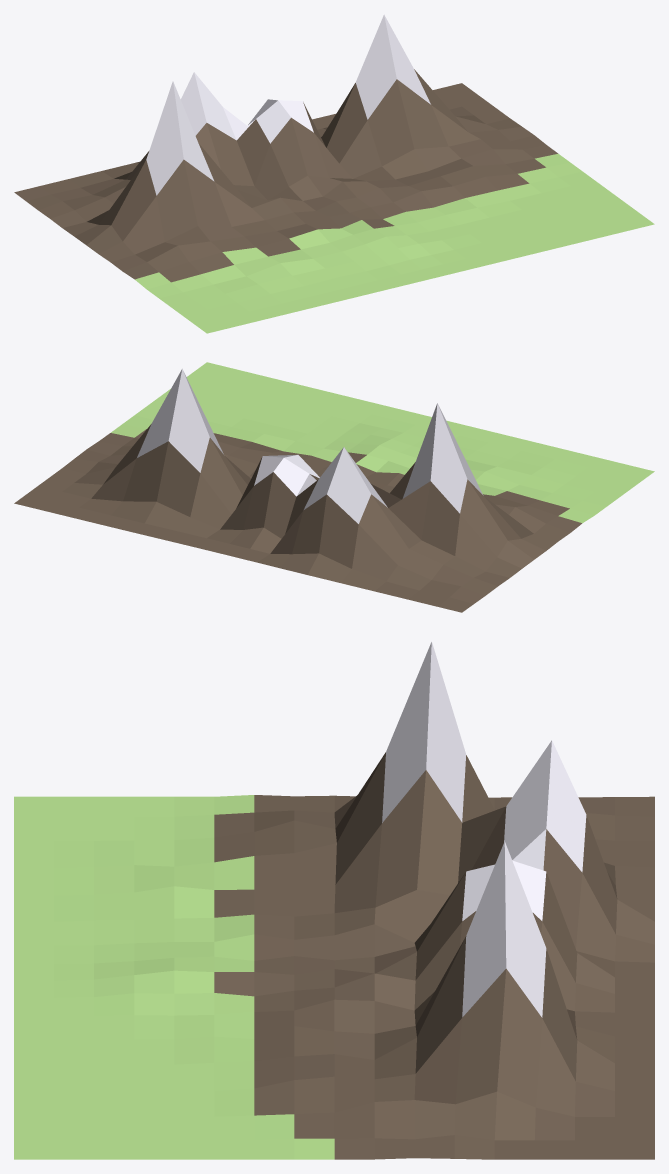
The model's file is mountain.glb.
3 views of the same model, one above another, from view 1: azimuth 30°, elevation 25°; view 2: azimuth 150°, elevation 25°; view 3: azimuth 270°, elevation 25° (orthographic). The views are drawn at different scales.
Visible parts, largest first — view 1: Sahne; view 2: Sahne; view 3: Sahne.
Boxes of the visible parts, bbox=[...] form: Sahne: bbox=[14, 14, 654, 333]; Sahne: bbox=[14, 362, 654, 612]; Sahne: bbox=[14, 641, 654, 1159].
Bounding box in the file's own units: 26.8 × 7.94 × 20.
